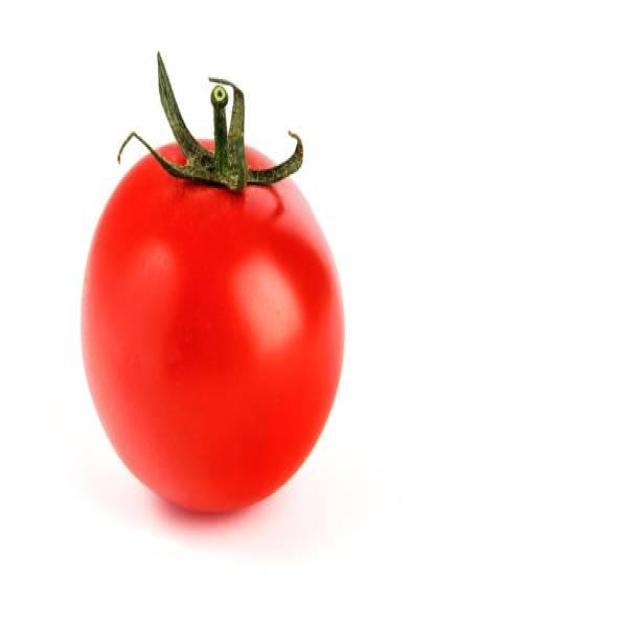Tomato: (82, 139, 343, 509)
